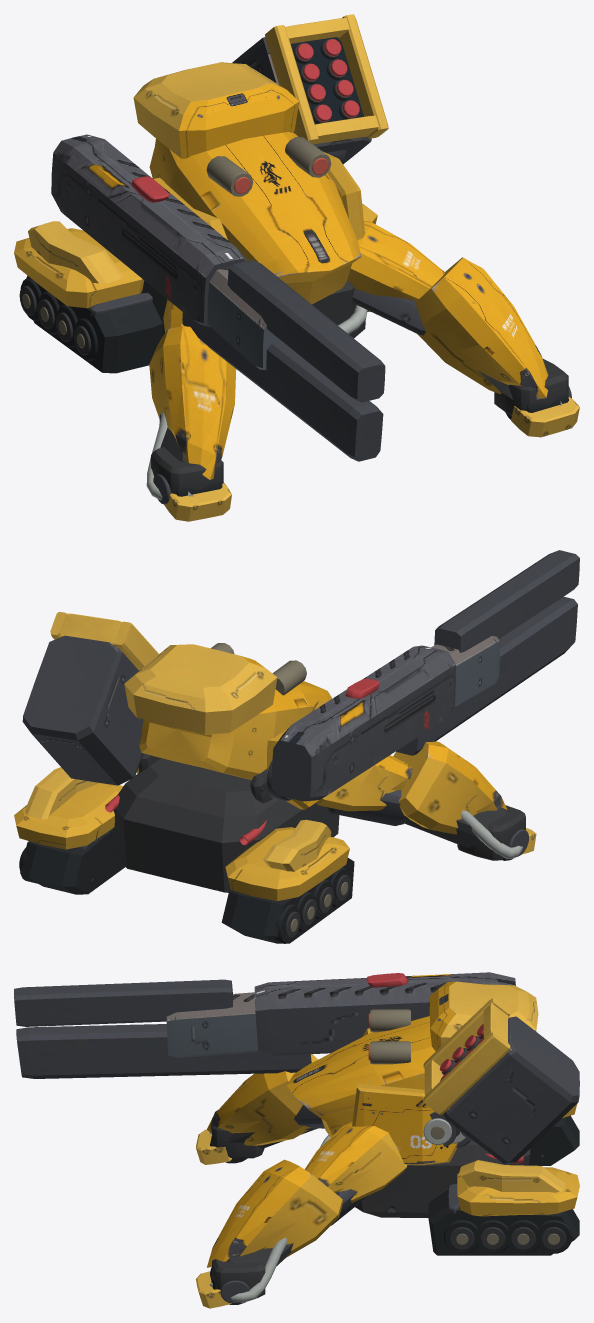
Rendered from compare-nine-ochre-v1.glb.
The picture shows the model from 3 angles, top to bottom: view 1: azimuth 30°, elevation 25°; view 2: azimuth 150°, elevation 25°; view 3: azimuth 270°, elevation 25°; orthographic projection. The views are drawn at different scales.
Parts seen in each view (by area): view 1: Sloping ochre bonnet, Deep cannon receiver, High dorsal hatch, Splayed yellow fender 2, Splayed yellow fender, Lower muzzle jaw, Long upper barrel, Upper ochre outrigger fairing 2, Rear rubber track, Rear track mudguard, Stepped barrel shroud, Side track fender (+17 smaller); view 2: Lower transmission, Deep cannon receiver, Tall polygonal launch box, High dorsal hatch, Sloping ochre bonnet, Long upper barrel, Splayed yellow fender, Lower muzzle jaw, Rear track mudguard, Rear track mudguard 2, Rear rubber track 2, Rear rubber track (+12 smaller); view 3: Deep cannon receiver, Tall polygonal launch box, Lower muzzle jaw, Long upper barrel, Splayed yellow fender 2, Sloping ochre bonnet, Upper ochre outrigger fairing 2, Splayed yellow fender, Side access armor 2, Stepped barrel shroud, Lower transmission, High dorsal hatch (+24 smaller).
Part boxes in pixels (left/top/right/bottom): Sloping ochre bonnet: left=149, top=132, right=361, bottom=304; Deep cannon receiver: left=51, top=134, right=246, bottom=327; High dorsal hatch: left=133, top=62, right=299, bottom=158; Splayed yellow fender 2: left=415, top=257, right=548, bottom=399; Splayed yellow fender: left=149, top=326, right=236, bottom=479; Lower muzzle jaw: left=182, top=312, right=383, bottom=461; Long upper barrel: left=227, top=260, right=385, bottom=402; Upper ochre outrigger fairing 2: left=347, top=221, right=445, bottom=311; Rear rubber track: left=26, top=275, right=162, bottom=373; Rear track mudguard: left=14, top=228, right=144, bottom=308; Stepped barrel shroud: left=207, top=266, right=281, bottom=370; Side track fender: left=28, top=221, right=123, bottom=283; Lower transmission: left=113, top=758, right=339, bottom=892; Deep cannon receiver: left=271, top=645, right=455, bottom=801; Tall polygonal launch box: left=22, top=635, right=143, bottom=785; High dorsal hatch: left=124, top=644, right=277, bottom=734; Sloping ochre bonnet: left=139, top=681, right=331, bottom=779; Long upper barrel: left=434, top=550, right=579, bottom=652; Splayed yellow fender: left=393, top=741, right=506, bottom=834; Lower muzzle jaw: left=396, top=596, right=577, bottom=755; Rear track mudguard: left=225, top=827, right=349, bottom=900; Rear track mudguard 2: left=14, top=783, right=123, bottom=849; Rear rubber track 2: left=20, top=828, right=125, bottom=894; Rear rubber track: left=221, top=858, right=354, bottom=943; Deep cannon receiver: left=254, top=972, right=515, bottom=1055; Tall polygonal launch box: left=443, top=1016, right=579, bottom=1163; Lower muzzle jaw: left=16, top=1024, right=311, bottom=1078; Long upper barrel: left=14, top=979, right=232, bottom=1026; Splayed yellow fender 2: left=207, top=1159, right=343, bottom=1267; Sloping ochre bonnet: left=286, top=1016, right=435, bottom=1136; Upper ochre outrigger fairing 2: left=304, top=1122, right=407, bottom=1202; Splayed yellow fender: left=207, top=1054, right=317, bottom=1145; Side access armor 2: left=352, top=1083, right=457, bottom=1165; Stepped barrel shroud: left=166, top=992, right=258, bottom=1057; Lower transmission: left=355, top=1141, right=530, bottom=1217; High dorsal hatch: left=429, top=981, right=538, bottom=1051.
Bounding box in the file's own units: 2.47 × 1.77 × 3.52.
Materials: 1 (1 with a texture image).
